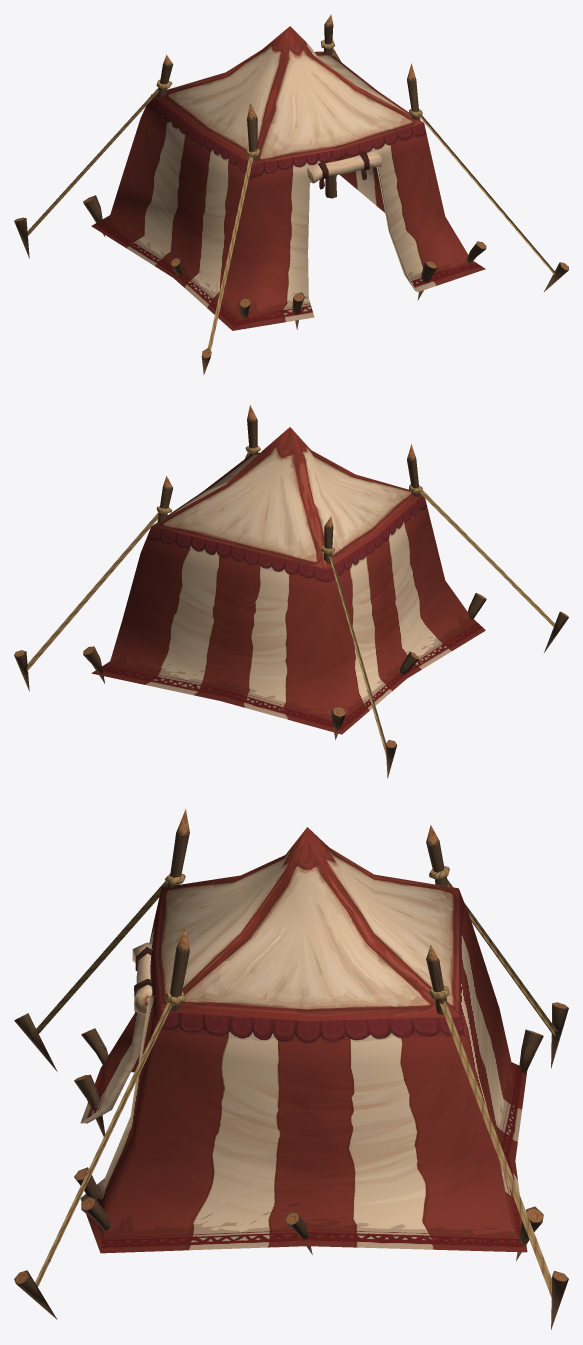
Rendered from SM_PROP_tent_big_battle_02.fbx.
3 views of the same model, one above another, from view 1: azimuth 30°, elevation 25°; view 2: azimuth 150°, elevation 25°; view 3: azimuth 270°, elevation 25° (orthographic). The views are drawn at different scales.
Visible parts, largest first — view 1: SM_PROP_tent_big_battle_02; view 2: SM_PROP_tent_big_battle_02; view 3: SM_PROP_tent_big_battle_02.
Boxes of the visible parts, bbox=[...] form: SM_PROP_tent_big_battle_02: bbox=[14, 14, 568, 375]; SM_PROP_tent_big_battle_02: bbox=[14, 405, 568, 778]; SM_PROP_tent_big_battle_02: bbox=[14, 809, 568, 1329].
Bounding box in the file's own units: 712 × 445 × 600.
